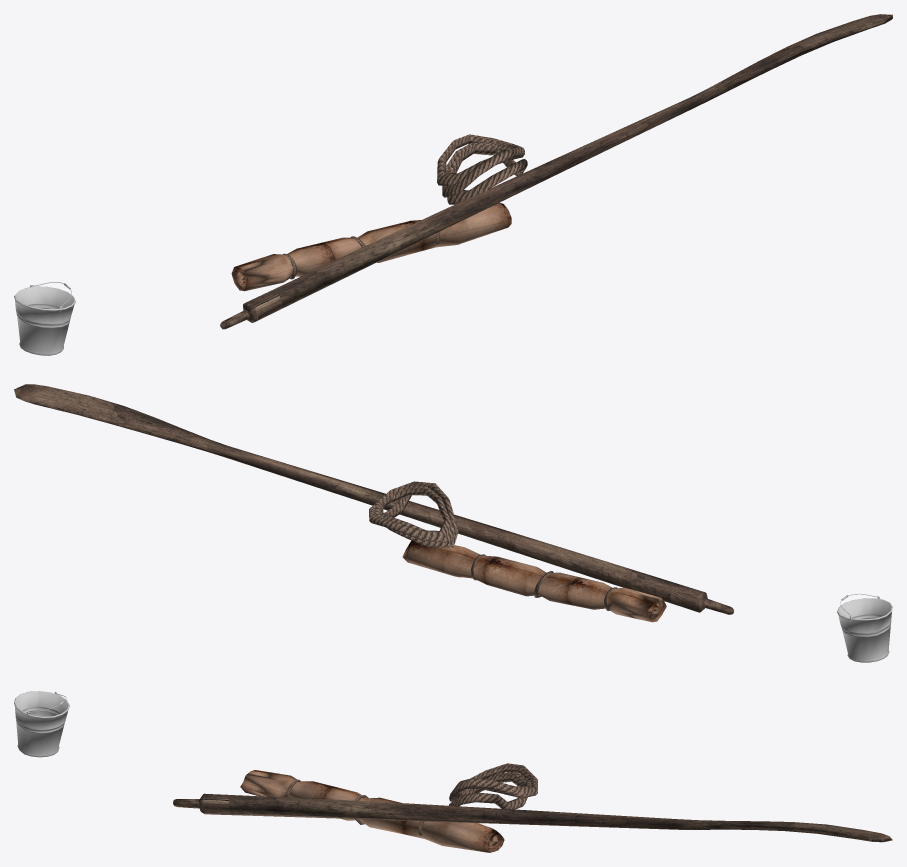
File: trash_boat.fbx
3 renders of one model, top to bottom at view 1: azimuth 30°, elevation 25°; view 2: azimuth 150°, elevation 25°; view 3: azimuth 330°, elevation 25°, orthographic. The views are drawn at different scales.
Parts seen in each view (by area): view 1: paddle, kal, Oselvar1.002, Bucket_LP; view 2: paddle, kal, Oselvar1.002, Bucket_LP; view 3: paddle, kal, Bucket_LP, Oselvar1.002.
Boxes of the visible parts, <box> form: paddle: <box>220,14,892,329</box>; kal: <box>231,202,511,291</box>; Oselvar1.002: <box>437,134,527,204</box>; Bucket_LP: <box>14,282,75,355</box>; paddle: <box>14,384,733,614</box>; kal: <box>402,540,666,622</box>; Oselvar1.002: <box>369,481,458,547</box>; Bucket_LP: <box>837,593,892,662</box>; paddle: <box>173,793,892,842</box>; kal: <box>240,770,504,852</box>; Bucket_LP: <box>14,691,69,757</box>; Oselvar1.002: <box>449,763,537,809</box>.
Bounding box in the file's own units: 433 × 49.68 × 55.81.
